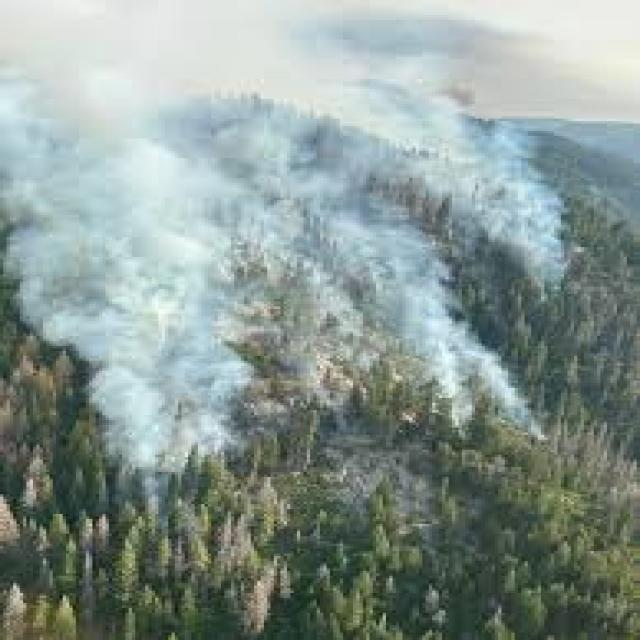Smoke: (0, 0, 452, 238), (74, 24, 254, 479), (40, 247, 296, 475), (393, 278, 551, 454), (501, 118, 579, 308)
